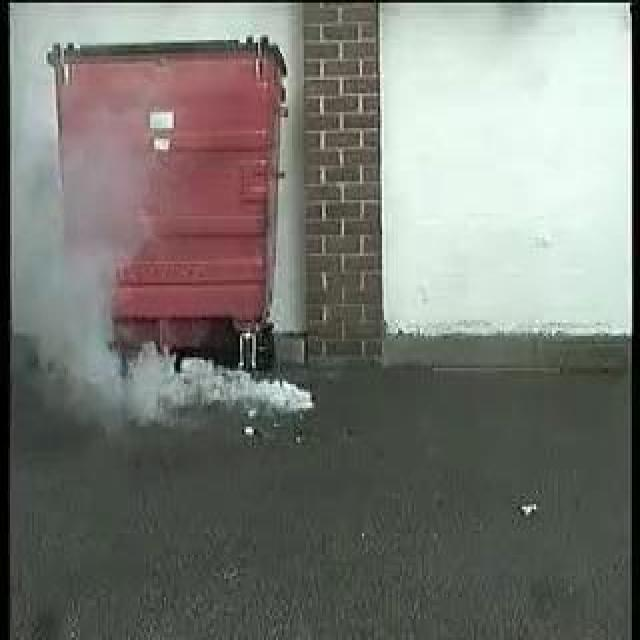Smoke: (51, 340, 315, 420)
